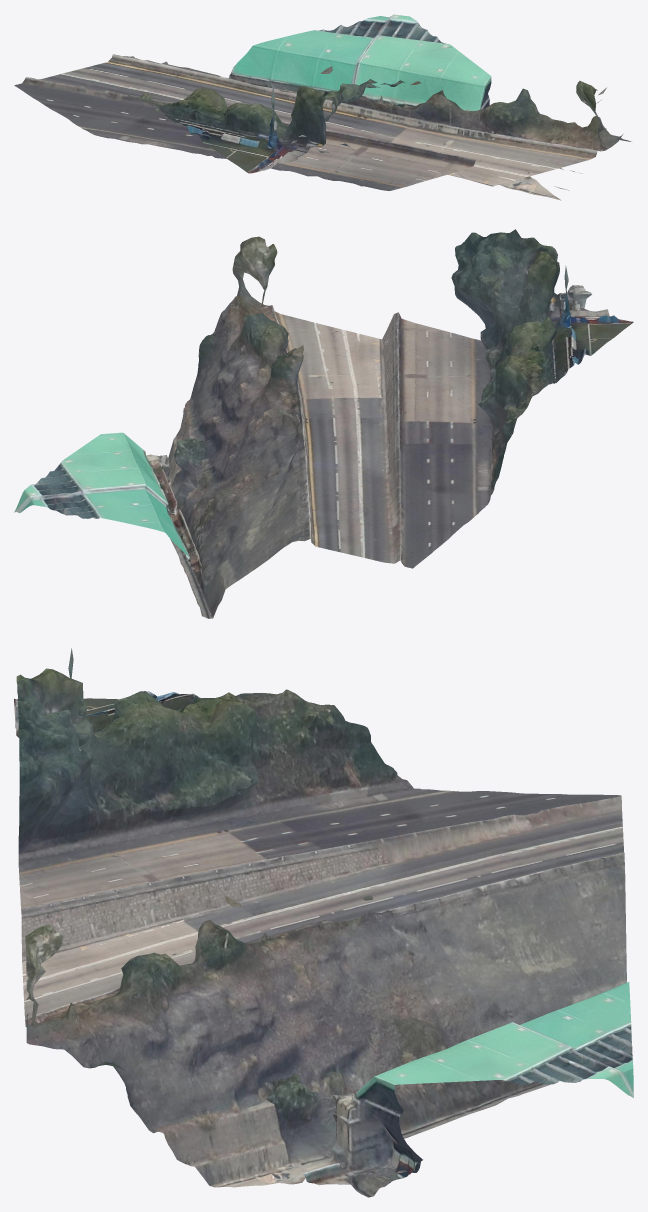
File: Tile_+011_+008_L19_00000010t3.glb
3 views of the same model, one above another, from view 1: azimuth 30°, elevation 25°; view 2: azimuth 150°, elevation 25°; view 3: azimuth 270°, elevation 25° (orthographic). The views are drawn at different scales.
Parts seen in each view (by area): view 1: rtc; view 2: rtc; view 3: rtc.
Boxes of the visible parts, bbox=[...] form: rtc: bbox=[14, 14, 631, 200]; rtc: bbox=[14, 229, 633, 618]; rtc: bbox=[14, 648, 633, 1197].
Bounding box in the file's own units: 64.02 × 38.31 × 64.56.
4 materials, 4 textured.
